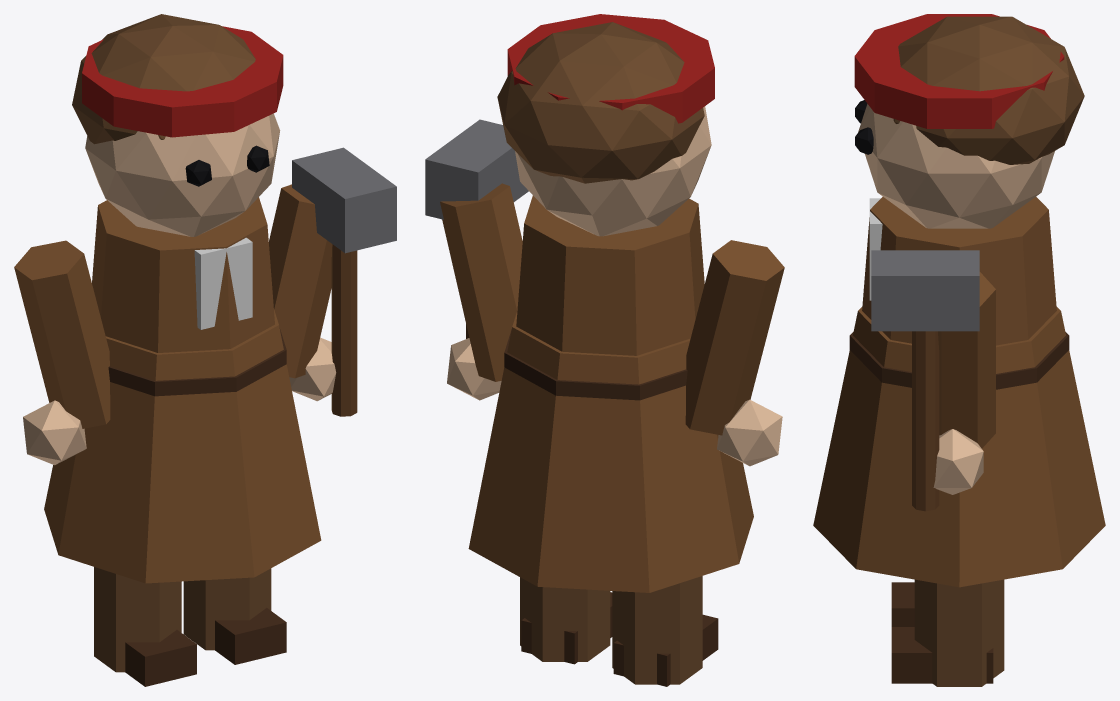
Rendered from SM_GZ_npc_blacksmith.fbx.
3 renders of one model, left to right at view 1: azimuth 30°, elevation 25°; view 2: azimuth 150°, elevation 25°; view 3: azimuth 270°, elevation 25°, orthographic. The views are drawn at different scales.
Parts seen in each view (by area): view 1: SM_GZ_npc_blacksmith; view 2: SM_GZ_npc_blacksmith; view 3: SM_GZ_npc_blacksmith.
Boxes of the visible parts, bbox=[...] form: SM_GZ_npc_blacksmith: bbox=[14, 14, 396, 686]; SM_GZ_npc_blacksmith: bbox=[425, 14, 784, 686]; SM_GZ_npc_blacksmith: bbox=[813, 14, 1105, 686].
Size of the model in its own units: 115 by 203 by 86.4.
